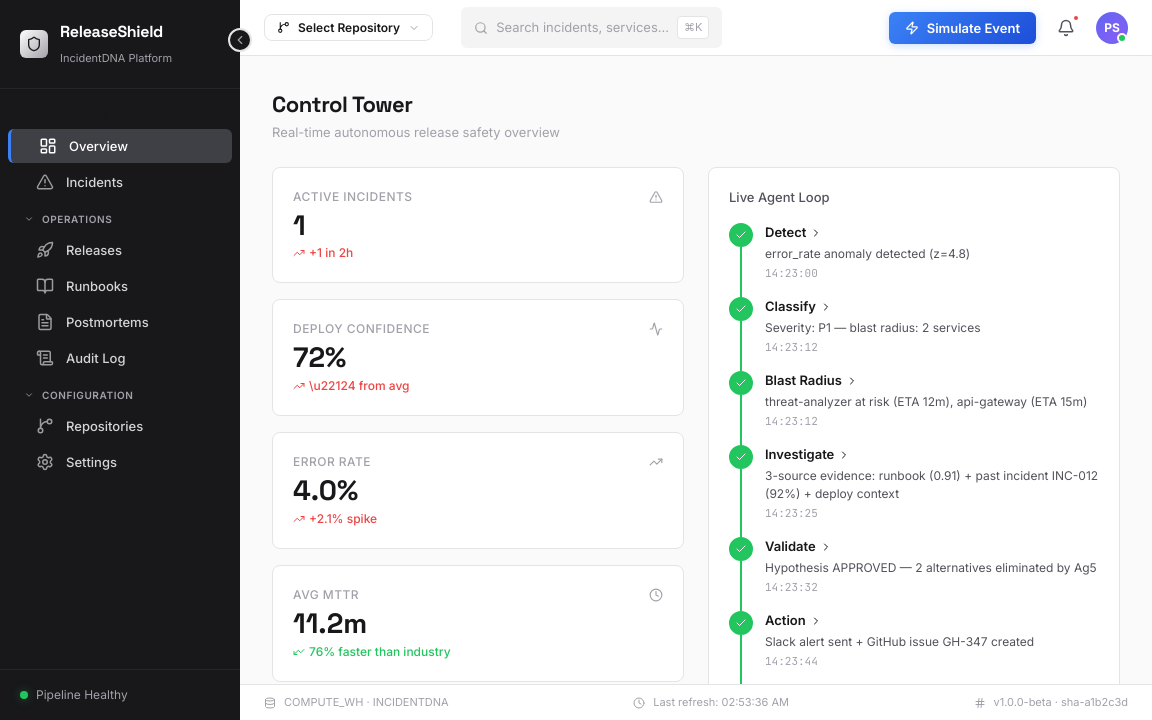
Integration — Sidebar Collapse › sidebar collapses and expands correctly
Click the button named "Collapse sidebar": x=240, y=40 x1=228 y1=28 x2=252 y2=52
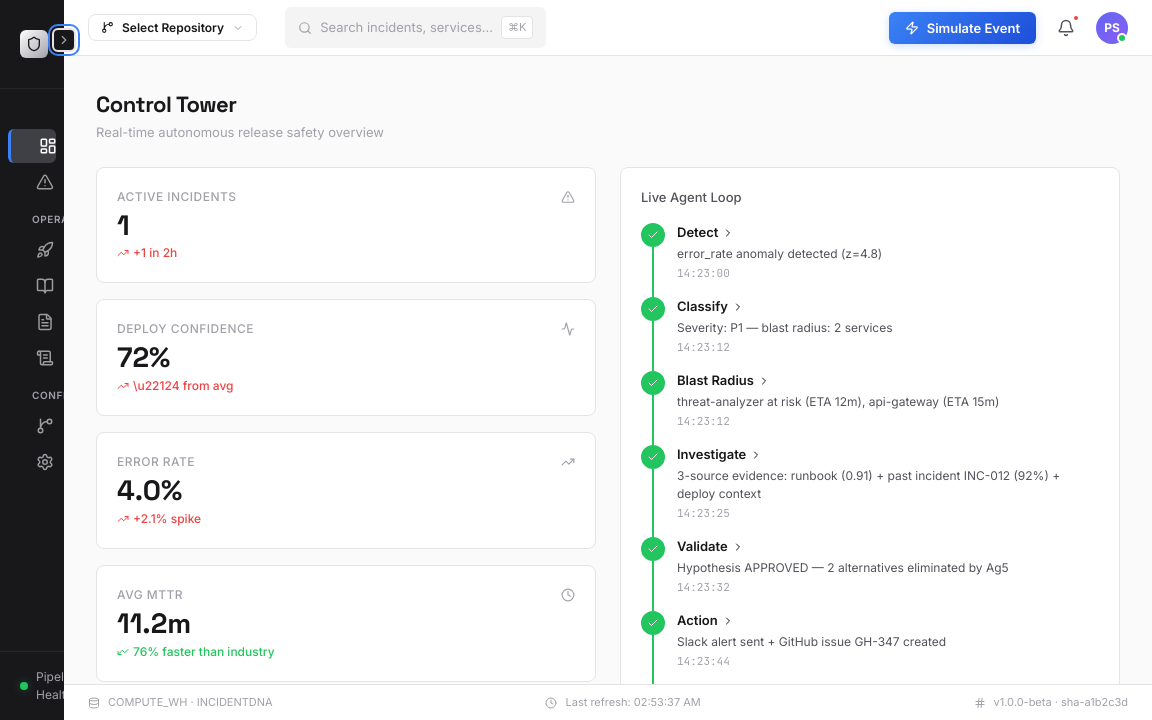
expect the button named "Expand sidebar" is shown: met
Click the button named "Expand sidebar": x=64, y=40 x1=52 y1=28 x2=76 y2=52
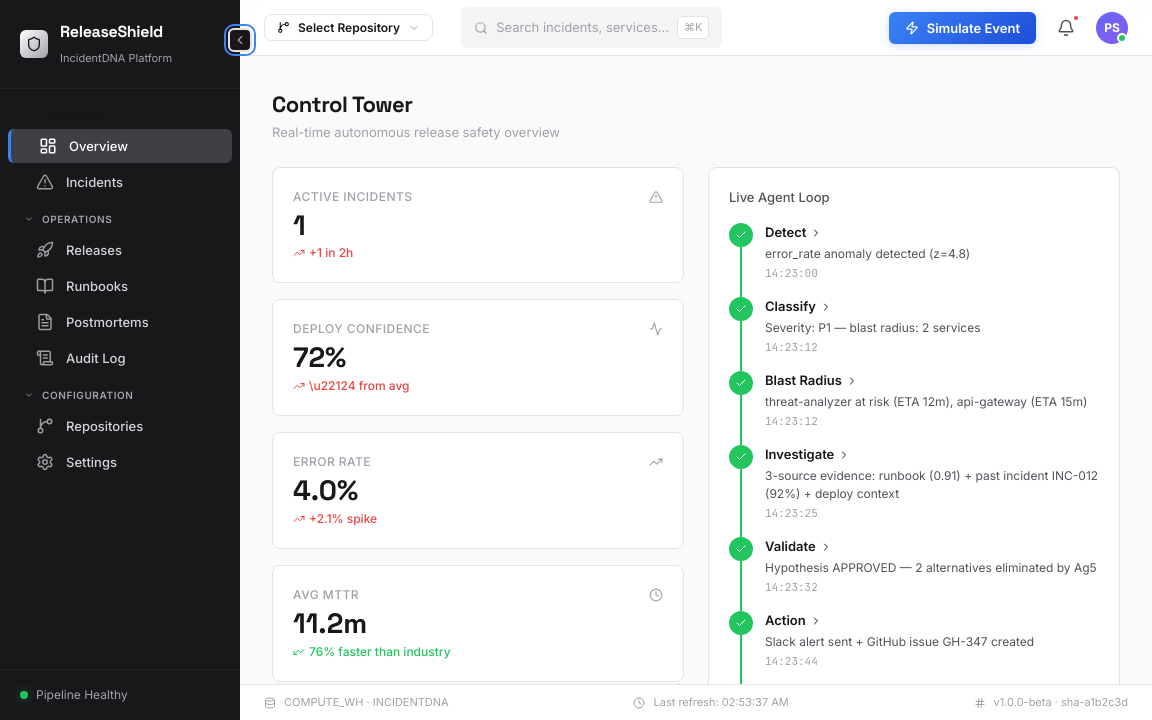
expect the button named "Collapse sidebar" is shown: met, box x1=228 y1=28 x2=252 y2=52
